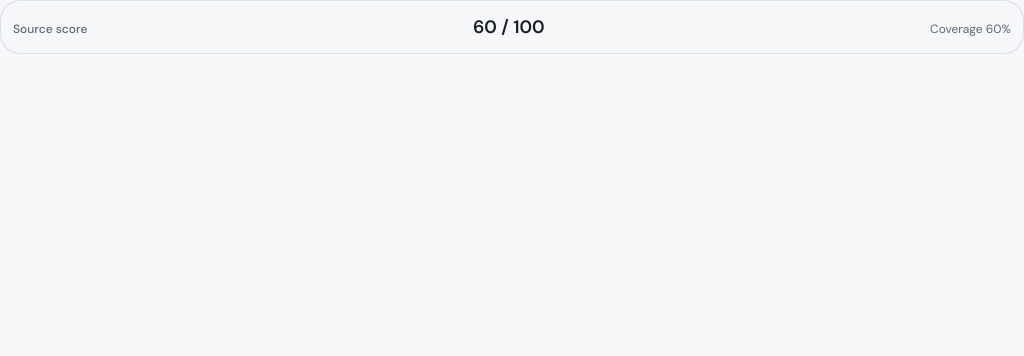
ScoreBreakdown › shows component contributions and names missing evidence without assigning zero
This screenshot has width=1024, height=356.
Click the text "60 / 100": click(509, 27) [473,13,544,41]
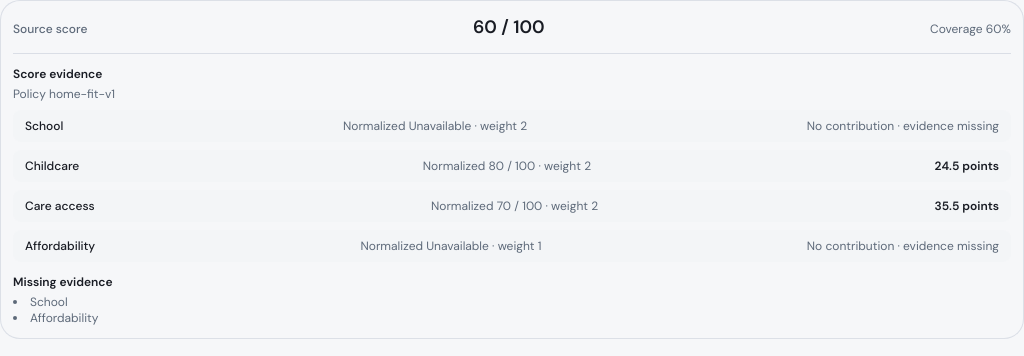
Now the text "24.5 points" is shown, box [935,158,999,174]
Now the text "35.5 points" is shown, box [934,198,999,214]
Now the text "No contribution · evidence missing" is shown 2 times, box [807,118,999,134]; [807,238,999,254]
